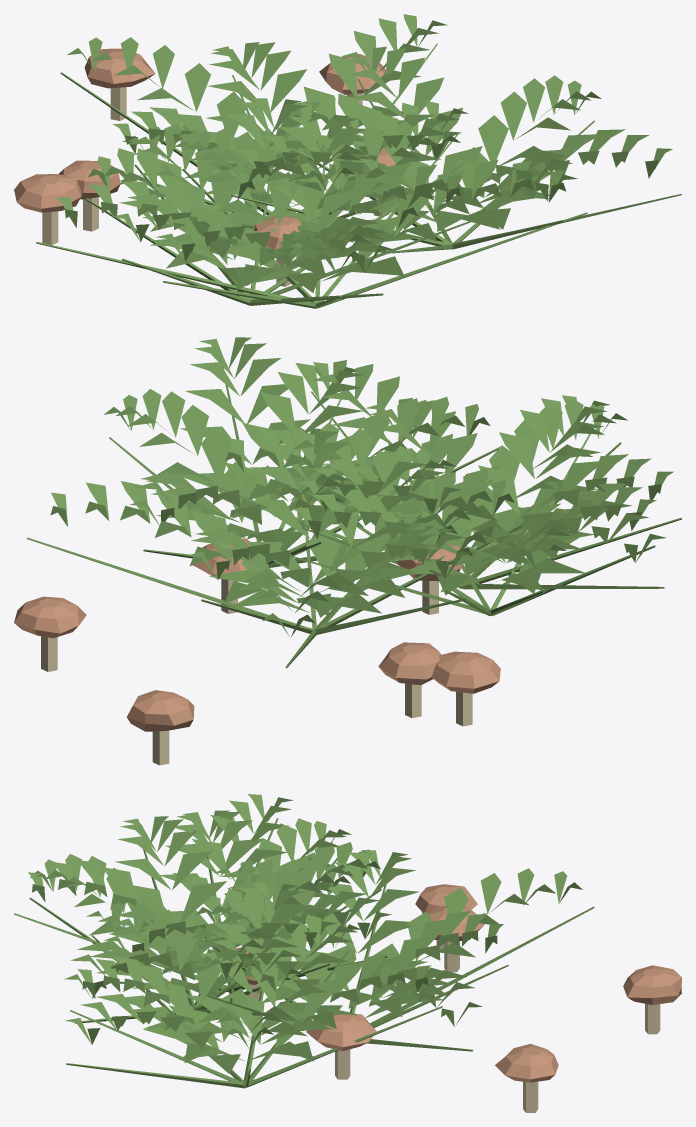
Rendered from detail_fern_bed.glb.
The picture shows the model from 3 angles, top to bottom: view 1: azimuth 30°, elevation 25°; view 2: azimuth 150°, elevation 25°; view 3: azimuth 270°, elevation 25°; orthographic projection. The views are drawn at different scales.
Visible parts, largest first — view 1: detail_fern_bed; view 2: detail_fern_bed; view 3: detail_fern_bed.
Boxes of the visible parts, x1,y1,x2,y2 form: detail_fern_bed: (14,14,681,308); detail_fern_bed: (14,337,681,765); detail_fern_bed: (14,794,681,1112).
Bounding box in the file's own units: 2.57 × 0.5946 × 2.89.
